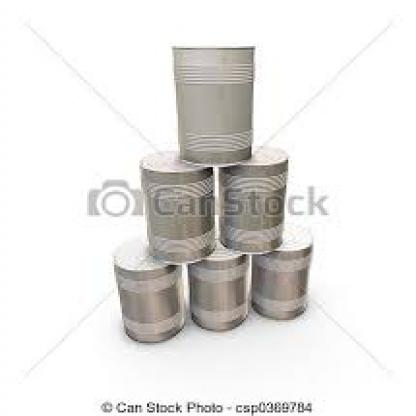METAL: (170, 44, 254, 164), (139, 153, 213, 261), (110, 242, 186, 340), (219, 146, 286, 252), (186, 238, 247, 331), (250, 235, 312, 318)
